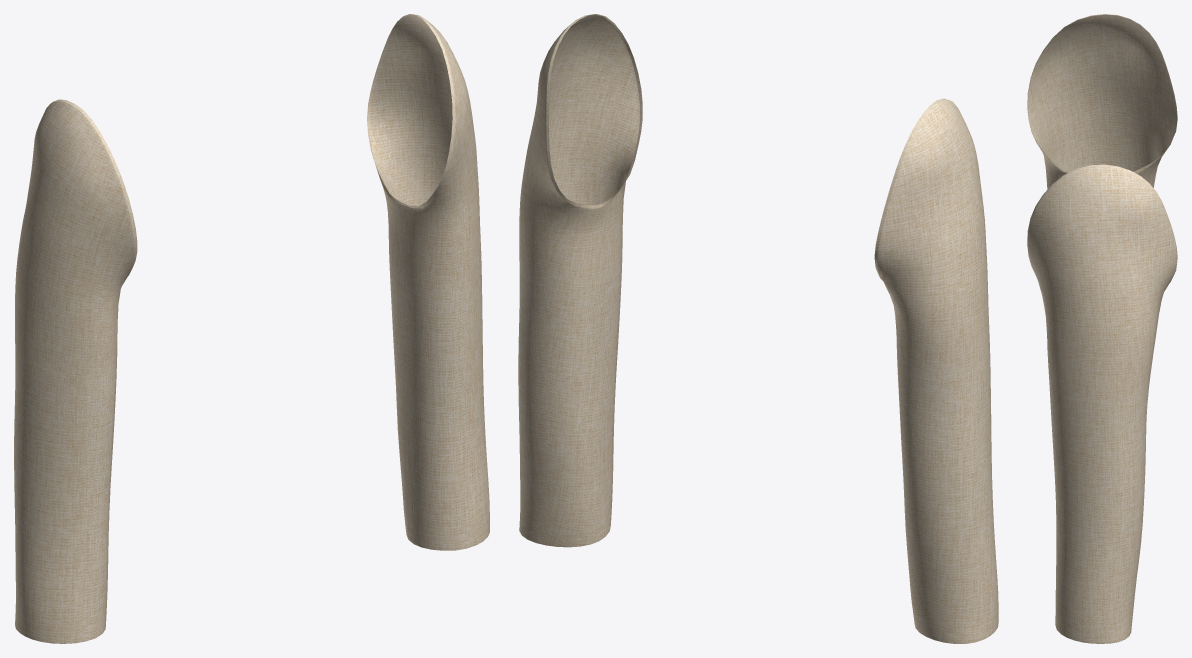
Rendered from Lightly_Padded.glb.
The picture shows the model from 3 angles, left to right: view 1: azimuth 30°, elevation 25°; view 2: azimuth 150°, elevation 25°; view 3: azimuth 270°, elevation 25°; orthographic projection. The views are drawn at different scales.
Parts seen in each view (by area): view 1: Lightly_padded.001; view 2: Lightly_padded.001; view 3: Lightly_padded.001.
Boxes of the visible parts, <box> form: Lightly_padded.001: <box>14,14,489,643</box>; Lightly_padded.001: <box>518,14,998,643</box>; Lightly_padded.001: <box>1027,14,1177,643</box>.
Size of the model in its own units: 0.0771 by 0.0822 by 0.0246.
1 material, 1 textured.
